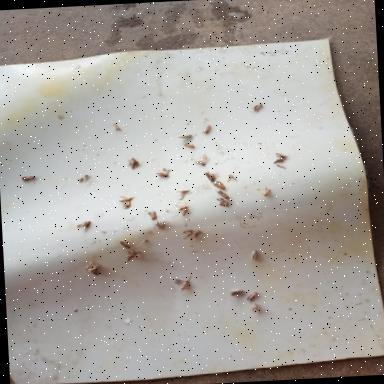pbw: (186, 228, 206, 240), (83, 259, 99, 271), (173, 277, 188, 289), (75, 220, 90, 232), (194, 155, 209, 165), (126, 158, 138, 169), (154, 168, 170, 176), (249, 302, 259, 314), (245, 290, 257, 300), (276, 151, 288, 161), (118, 240, 132, 248), (216, 197, 228, 206), (216, 189, 228, 198), (178, 205, 188, 215), (204, 171, 214, 181), (213, 180, 224, 189), (76, 174, 88, 182), (118, 195, 134, 201), (230, 288, 243, 295), (20, 174, 34, 180), (250, 103, 261, 110), (182, 141, 194, 147), (262, 186, 270, 195), (250, 249, 256, 260), (178, 133, 191, 138), (148, 210, 156, 218), (202, 124, 210, 132), (122, 200, 130, 208), (178, 190, 183, 199), (113, 124, 120, 130), (180, 188, 190, 192)
